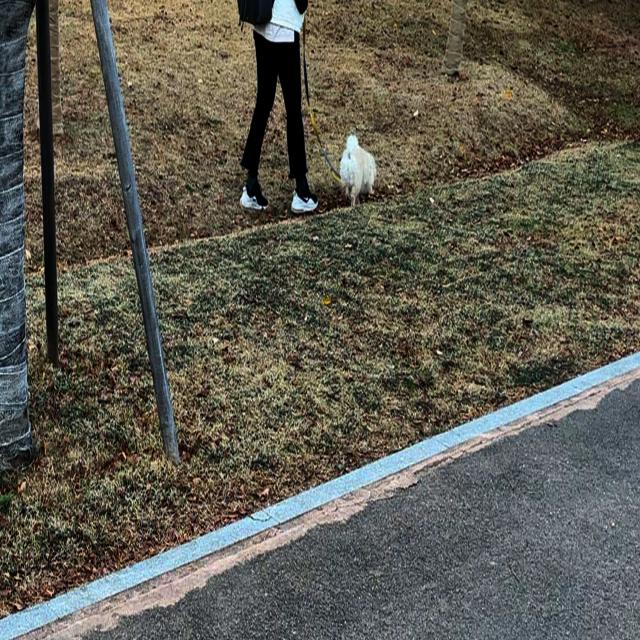Leashed_Dog: (291, 8, 377, 212)
